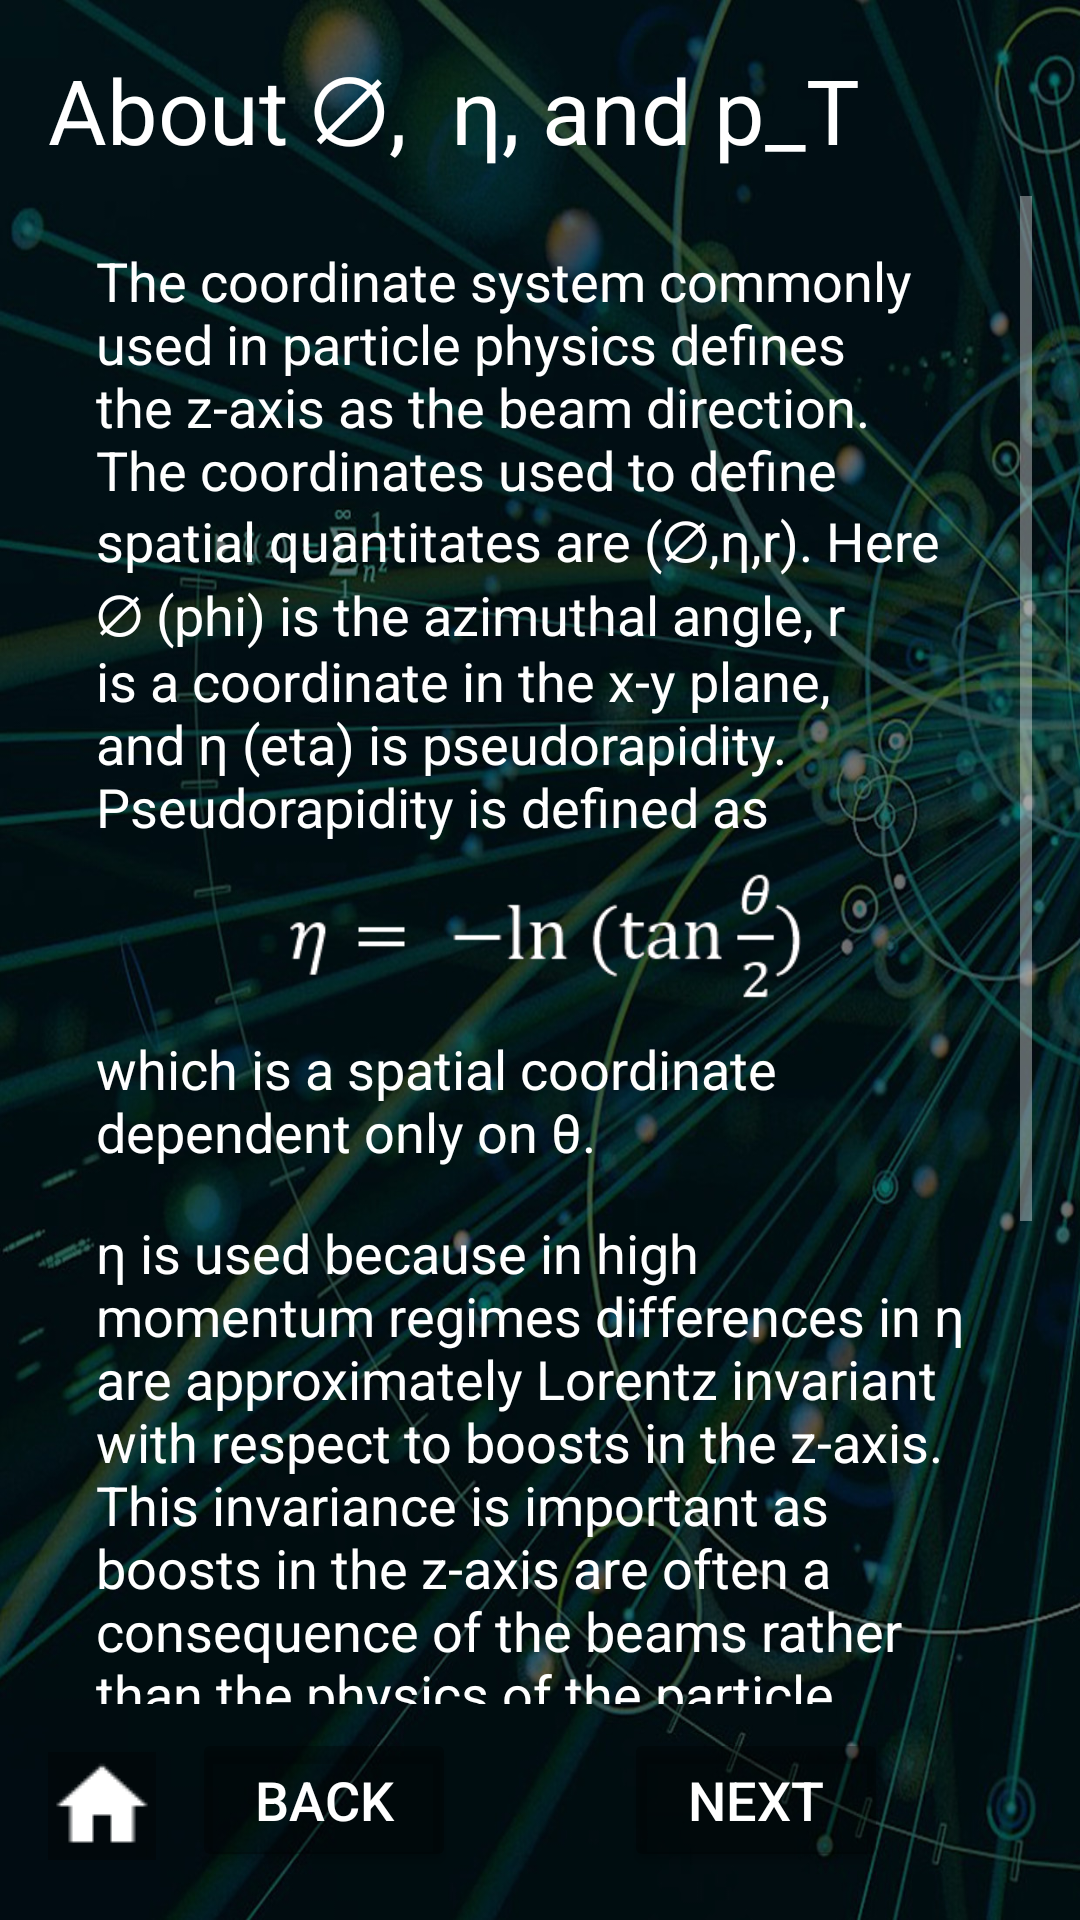

Icon click points for this 1080w x 1920h phone screenshot, format point (x, y):
home: point (102, 1804)
